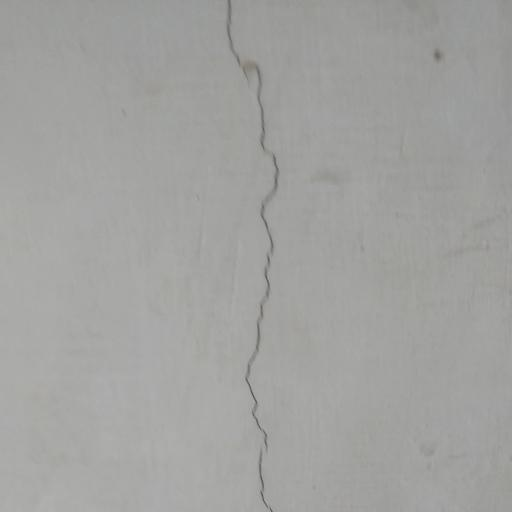minor_crack: (216, 0, 286, 512)
